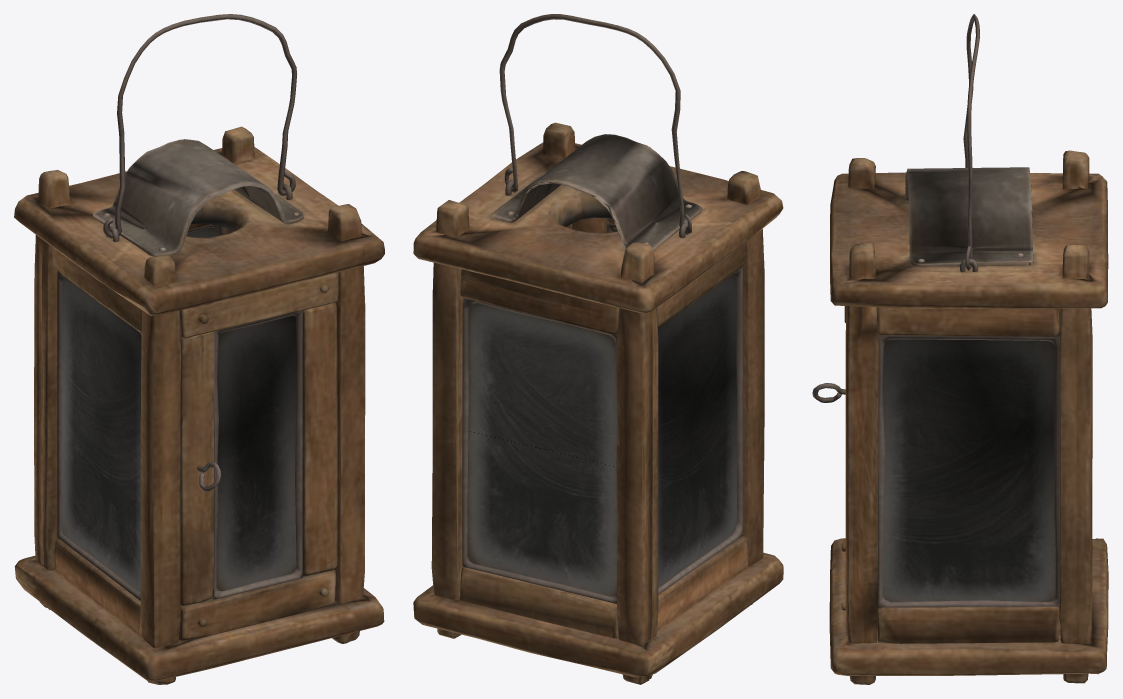
File: wooden_lantern_01.gltf
3 views of the same model, side by side, from view 1: azimuth 30°, elevation 25°; view 2: azimuth 150°, elevation 25°; view 3: azimuth 270°, elevation 25° (orthographic).
Parts seen in each view (by area): view 1: wooden_lantern_01, wooden_lantern_01_door, wooden_lantern_01_handle; view 2: wooden_lantern_01, wooden_lantern_01_handle, wooden_lantern_01_door; view 3: wooden_lantern_01, wooden_lantern_01_handle, wooden_lantern_01_door.
Part boxes in pixels (x1=…): wooden_lantern_01: x1=14, y1=126, x2=384, y2=684; wooden_lantern_01_door: x1=179, y1=272, x2=338, y2=640; wooden_lantern_01_handle: x1=103, y1=14, x2=296, y2=238; wooden_lantern_01: x1=413, y1=122, x2=783, y2=684; wooden_lantern_01_handle: x1=499, y1=14, x2=691, y2=234; wooden_lantern_01_door: x1=572, y1=217, x2=617, y2=233; wooden_lantern_01: x1=829, y1=150, x2=1108, y2=684; wooden_lantern_01_handle: x1=963, y1=14, x2=979, y2=270; wooden_lantern_01_door: x1=812, y1=306, x2=846, y2=610.
Size of the model in its own units: 0.221 by 0.5301 by 0.2348.
Materials: 2 (2 with a texture image).
